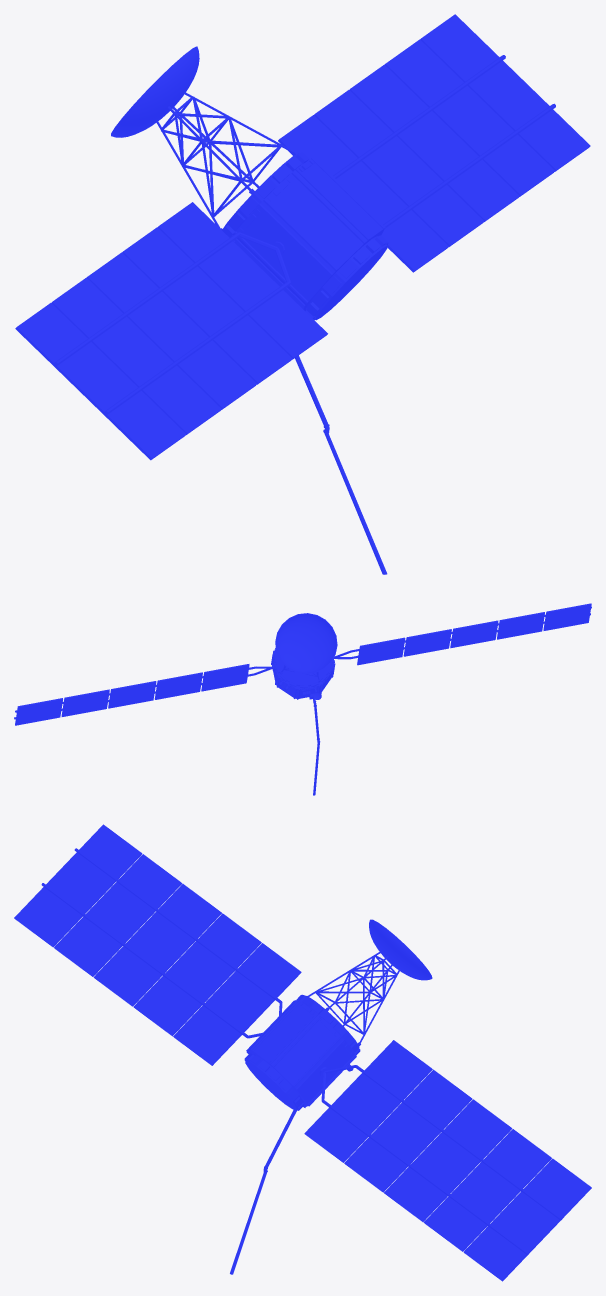
Rendered from hologram-satelite.glb.
3 renders of one model, top to bottom at view 1: azimuth 30°, elevation 25°; view 2: azimuth 150°, elevation 25°; view 3: azimuth 270°, elevation 25°, orthographic. The views are drawn at different scales.
Parts seen in each view (by area): view 1: Object_2; view 2: Object_2; view 3: Object_2.
Part boxes in pixels (<box>): Object_2: <box>15,14,590,574</box>; Object_2: <box>14,603,591,795</box>; Object_2: <box>14,824,591,1281</box>.
Bounding box in the file's own units: 15.77 × 8.11 × 13.26.
